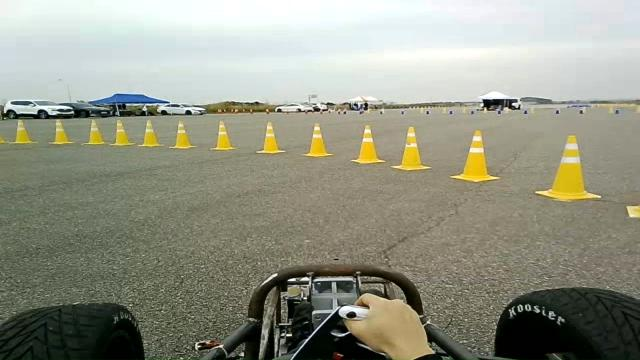yellow cone: (534, 134, 601, 200), (450, 129, 500, 182), (391, 126, 432, 170), (350, 124, 386, 164), (301, 122, 334, 157), (255, 121, 286, 154), (209, 120, 237, 150), (169, 120, 196, 148), (137, 119, 163, 147), (82, 119, 110, 145), (109, 119, 135, 146), (49, 119, 74, 144), (14, 119, 36, 144), (0, 120, 10, 144), (626, 204, 640, 218)
